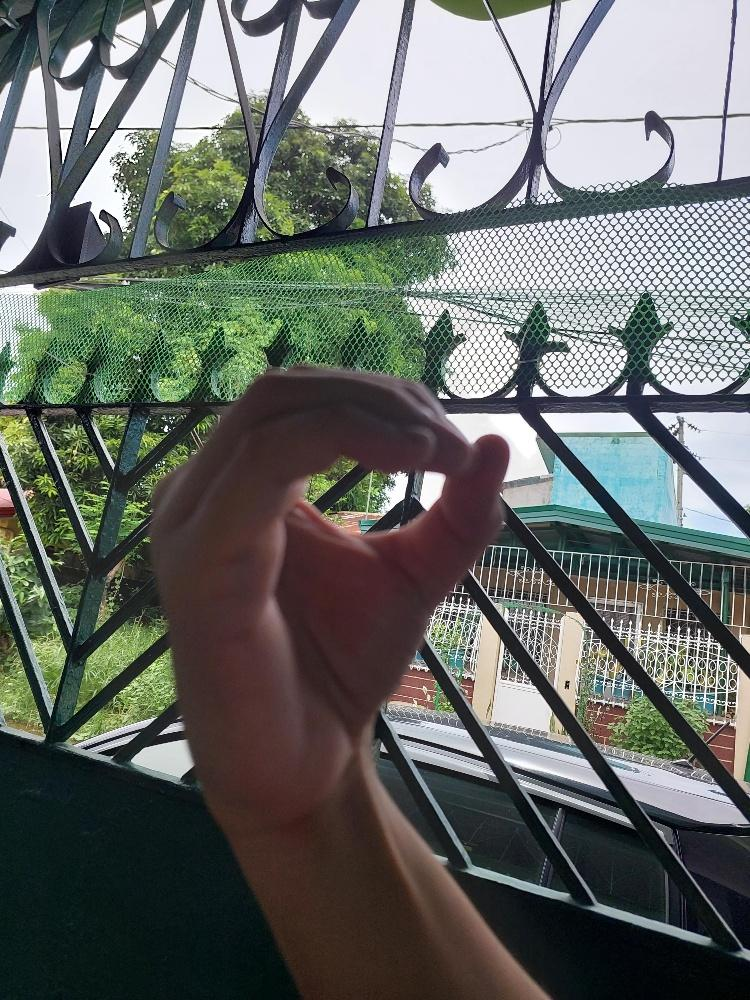o: (139, 352, 513, 816)
